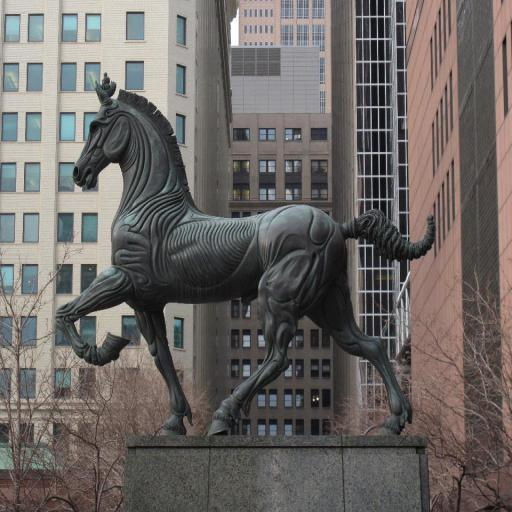horse: (54, 70, 437, 436)
